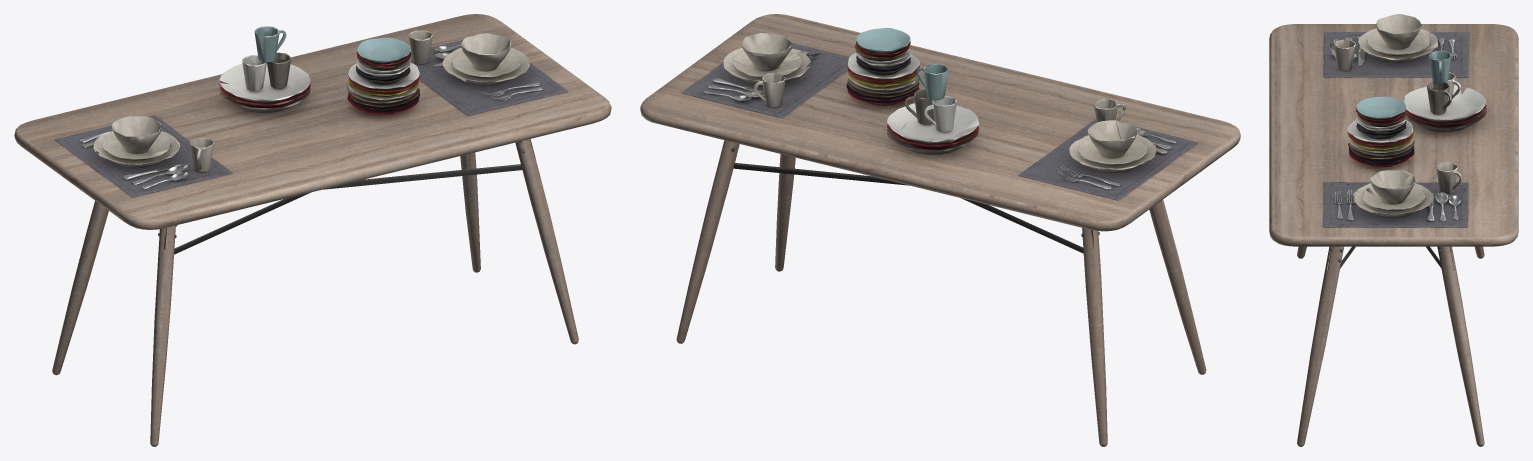
The model's file is raw_model.obj.
3 renders of one model, left to right at view 1: azimuth 30°, elevation 25°; view 2: azimuth 150°, elevation 25°; view 3: azimuth 270°, elevation 25°, orthographic. The views are drawn at different scales.
Parts seen in each view (by area): view 1: solid_013, solid_009, solid_010, solid_003, solid_014, solid_004, solid_001, solid_012, solid_002; view 2: solid_013, solid_010, solid_009, solid_003, solid_004, solid_014, solid_001, solid_012, solid_002; view 3: solid_013, solid_010, solid_009, solid_003, solid_004, solid_001, solid_012, solid_002, solid_006, solid_005, solid_014, solid_007.
Part boxes in pixels (x1=…): solid_013: x1=14, y1=14, x2=611, y2=446; solid_009: x1=93, y1=30, x2=529, y2=172; solid_010: x1=54, y1=40, x2=567, y2=197; solid_003: x1=219, y1=55, x2=419, y2=103; solid_014: x1=158, y1=141, x2=524, y2=254; solid_004: x1=254, y1=26, x2=410, y2=64; solid_001: x1=219, y1=52, x2=417, y2=112; solid_012: x1=80, y1=44, x2=542, y2=189; solid_002: x1=219, y1=51, x2=419, y2=114; solid_013: x1=640, y1=14, x2=1240, y2=446; solid_010: x1=681, y1=43, x2=1198, y2=200; solid_009: x1=723, y1=33, x2=1156, y2=172; solid_003: x1=847, y1=48, x2=979, y2=144; solid_004: x1=856, y1=28, x2=948, y2=100; solid_014: x1=731, y1=148, x2=1099, y2=253; solid_001: x1=848, y1=78, x2=978, y2=154; solid_012: x1=703, y1=49, x2=1176, y2=189; solid_002: x1=847, y1=41, x2=979, y2=149; solid_013: x1=1269, y1=24, x2=1518, y2=446; solid_010: x1=1323, y1=32, x2=1468, y2=227; solid_009: x1=1329, y1=14, x2=1462, y2=217; solid_003: x1=1347, y1=72, x2=1486, y2=153; solid_004: x1=1356, y1=50, x2=1451, y2=119; solid_001: x1=1349, y1=81, x2=1486, y2=156; solid_012: x1=1331, y1=35, x2=1460, y2=221; solid_002: x1=1347, y1=104, x2=1486, y2=167; solid_006: x1=1348, y1=110, x2=1413, y2=160; solid_005: x1=1348, y1=120, x2=1414, y2=164; solid_014: x1=1327, y1=246, x2=1453, y2=269; solid_007: x1=1348, y1=131, x2=1414, y2=150.
Bounding box in the file's own units: 1.51 × 0.9399 × 0.7387.
1 material, 1 textured.
